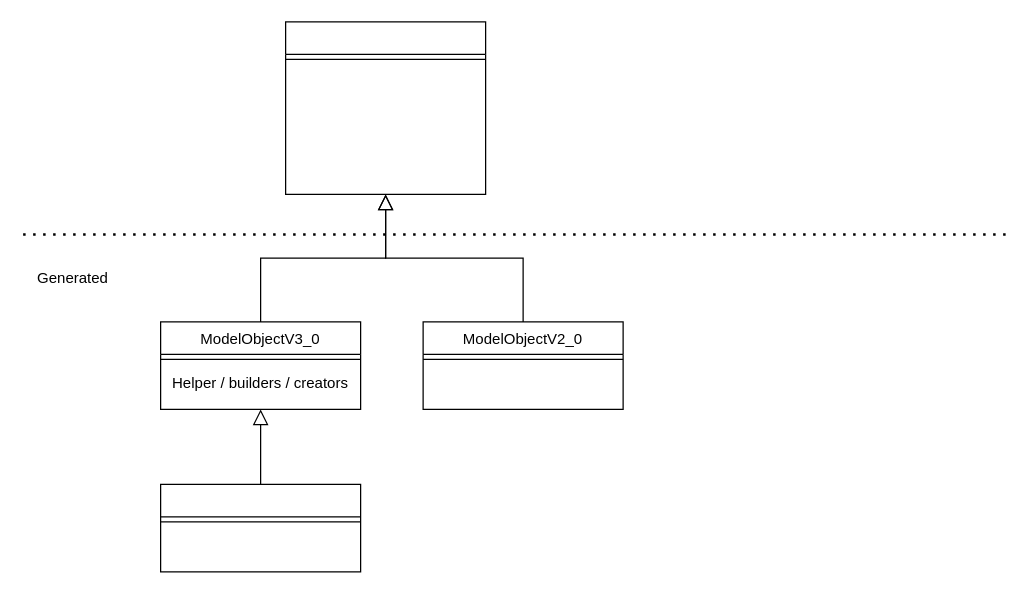
Some shapes in this 1034 by 594 pixel diagram are drawn without their labels. Each missing label, with the centre of its shape:
... Concreate Classes: pixel 260 527
CoreModelObject: pixel 385 107
